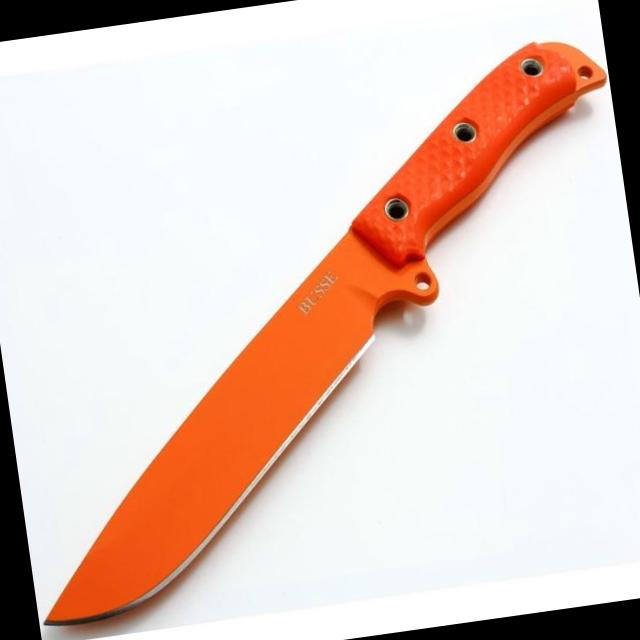Knife: (46, 43, 607, 625)
